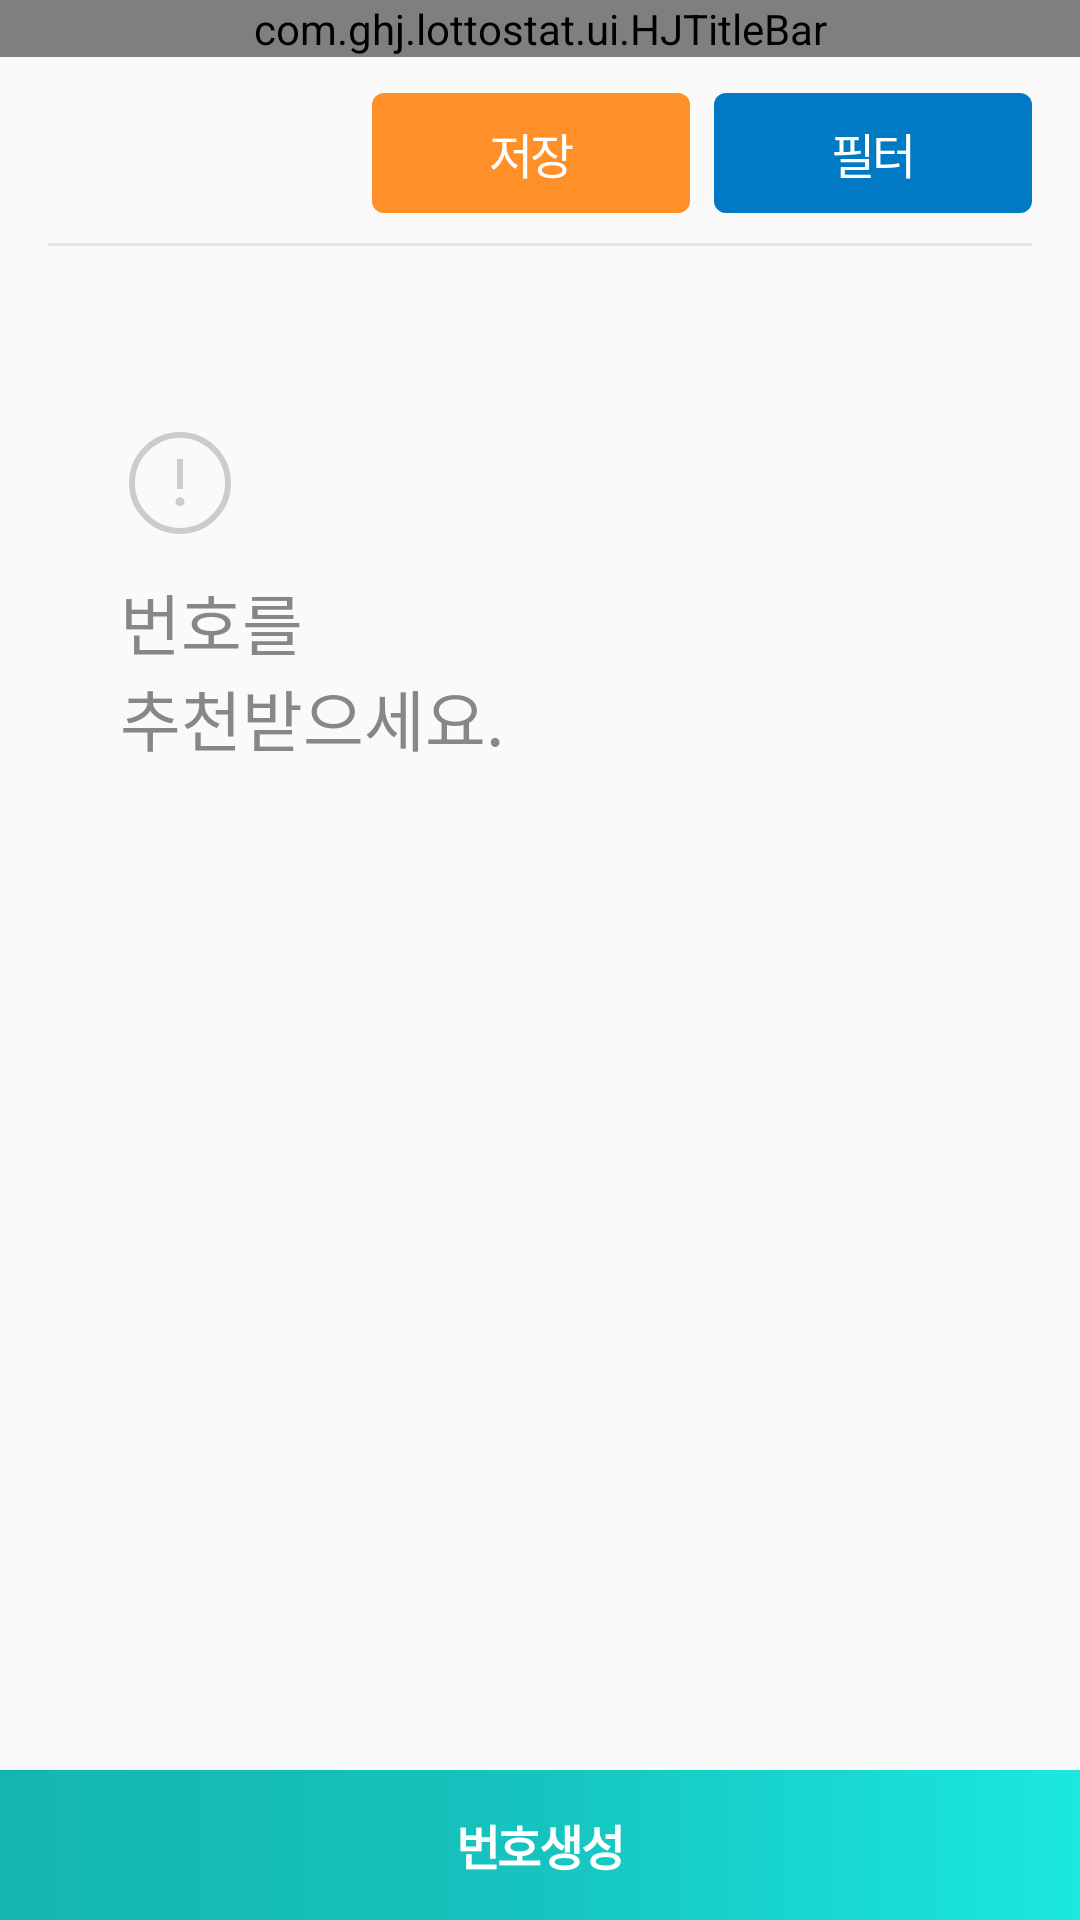

Where to tap for icons on this 1080w x 1920h app screen, as point (x, y):
no content: point (180, 483)
